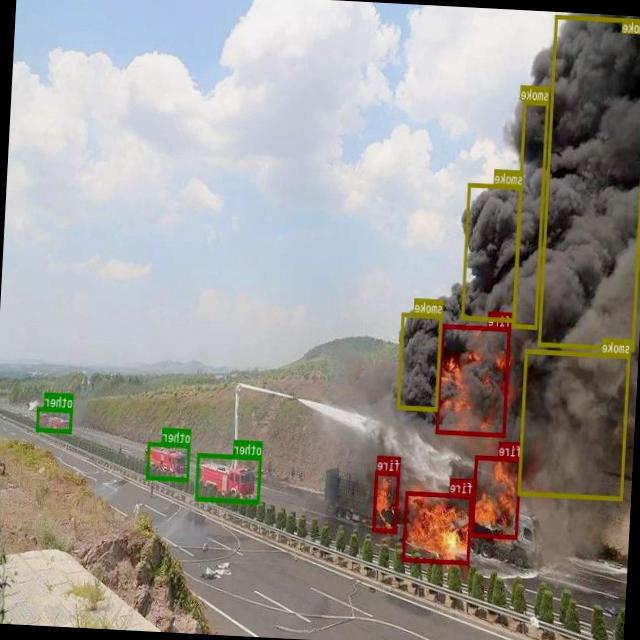fire: (436, 322, 512, 437), (403, 490, 474, 564), (472, 455, 522, 538), (372, 470, 400, 532)
smoke: (538, 13, 640, 350), (518, 348, 631, 501), (512, 99, 550, 329), (462, 182, 524, 322), (398, 312, 443, 411)
